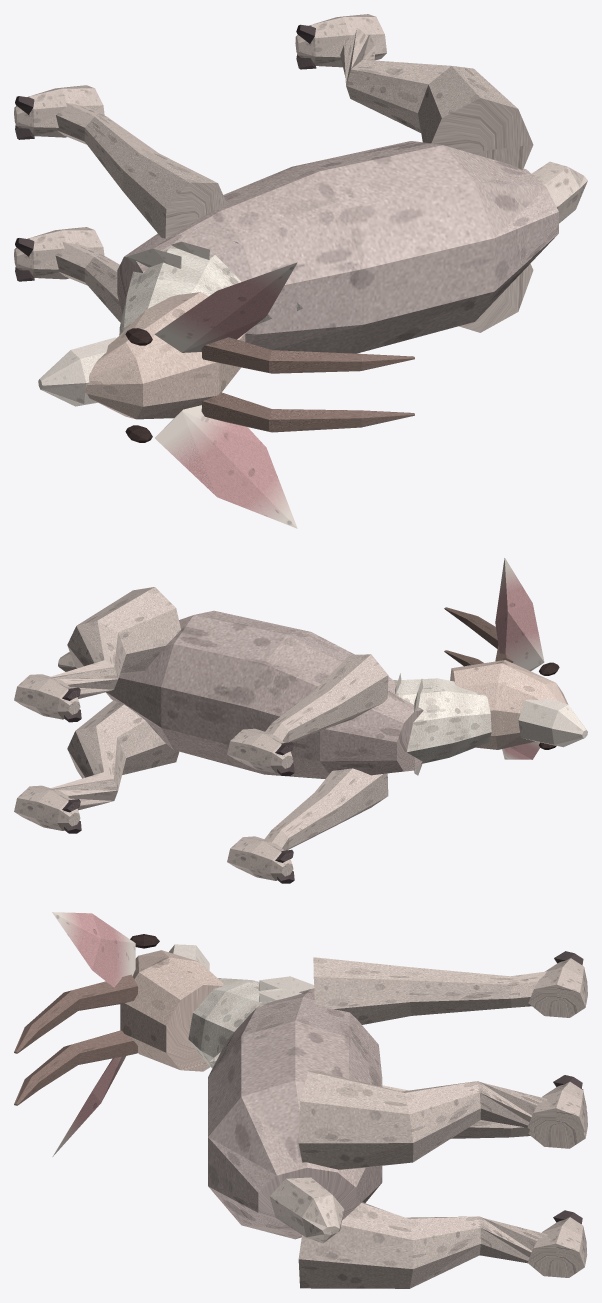
File: branquelope_blockout_v01.glb
The picture shows the model from 3 angles, top to bottom: view 1: azimuth 30°, elevation 25°; view 2: azimuth 150°, elevation 25°; view 3: azimuth 270°, elevation 25°; orthographic projection. The views are drawn at different scales.
Parts seen in each view (by area): view 1: branquelope; view 2: branquelope; view 3: branquelope.
Part boxes in pixels (left/top/right/bottom): branquelope: left=14, top=14, right=587, bottom=528; branquelope: left=14, top=558, right=587, bottom=883; branquelope: left=14, top=912, right=587, bottom=1288.
Size of the model in its own units: 1.65 by 0.68 by 1.44.
Materials: 1 (1 with a texture image).
